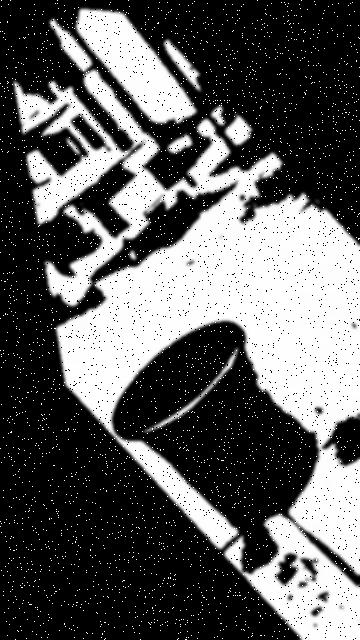pot: (109, 320, 312, 521)
